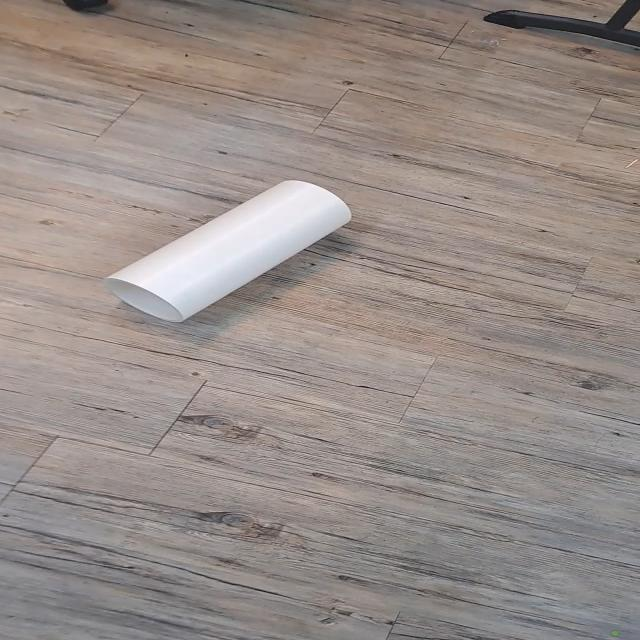CORAL: (107, 167, 362, 334)
